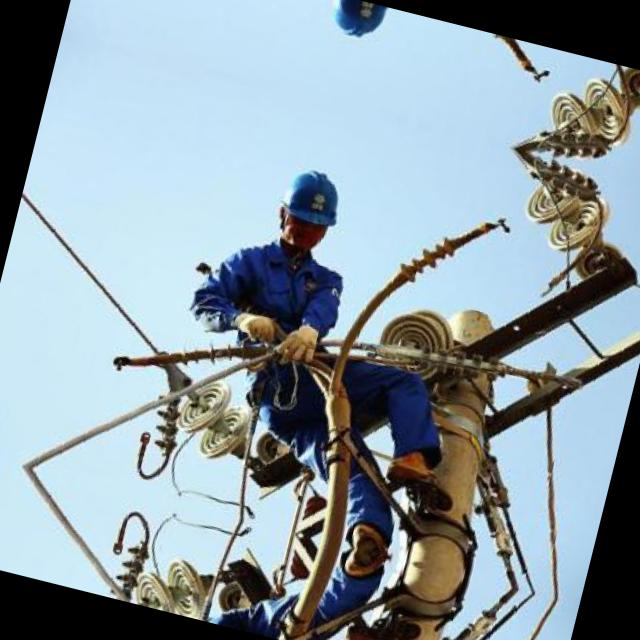helmet: (264, 150, 353, 266), (315, 0, 393, 58)
